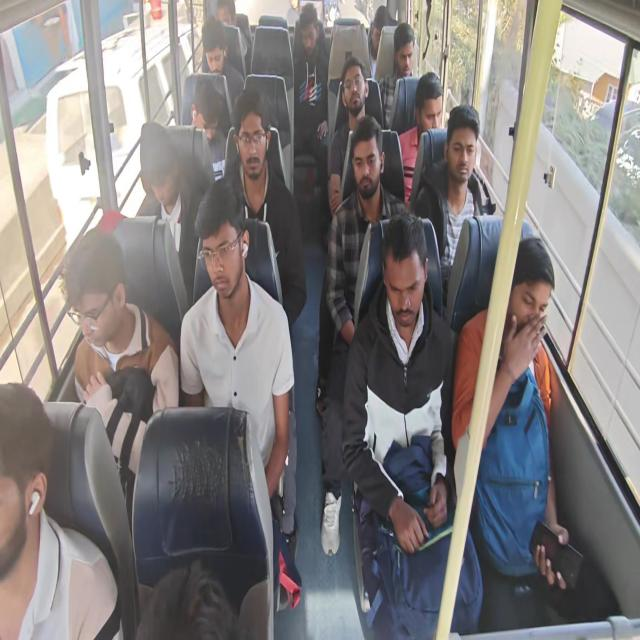person: (1, 349, 51, 569), (61, 213, 130, 343), (191, 177, 253, 306), (375, 209, 431, 329), (501, 226, 556, 346), (132, 112, 190, 220), (232, 90, 279, 185), (442, 97, 480, 191), (349, 116, 389, 200), (184, 66, 225, 143), (278, 0, 328, 60), (412, 68, 451, 143), (197, 6, 236, 79), (333, 48, 373, 115), (385, 6, 417, 82), (368, 5, 392, 60), (213, 3, 248, 30)
